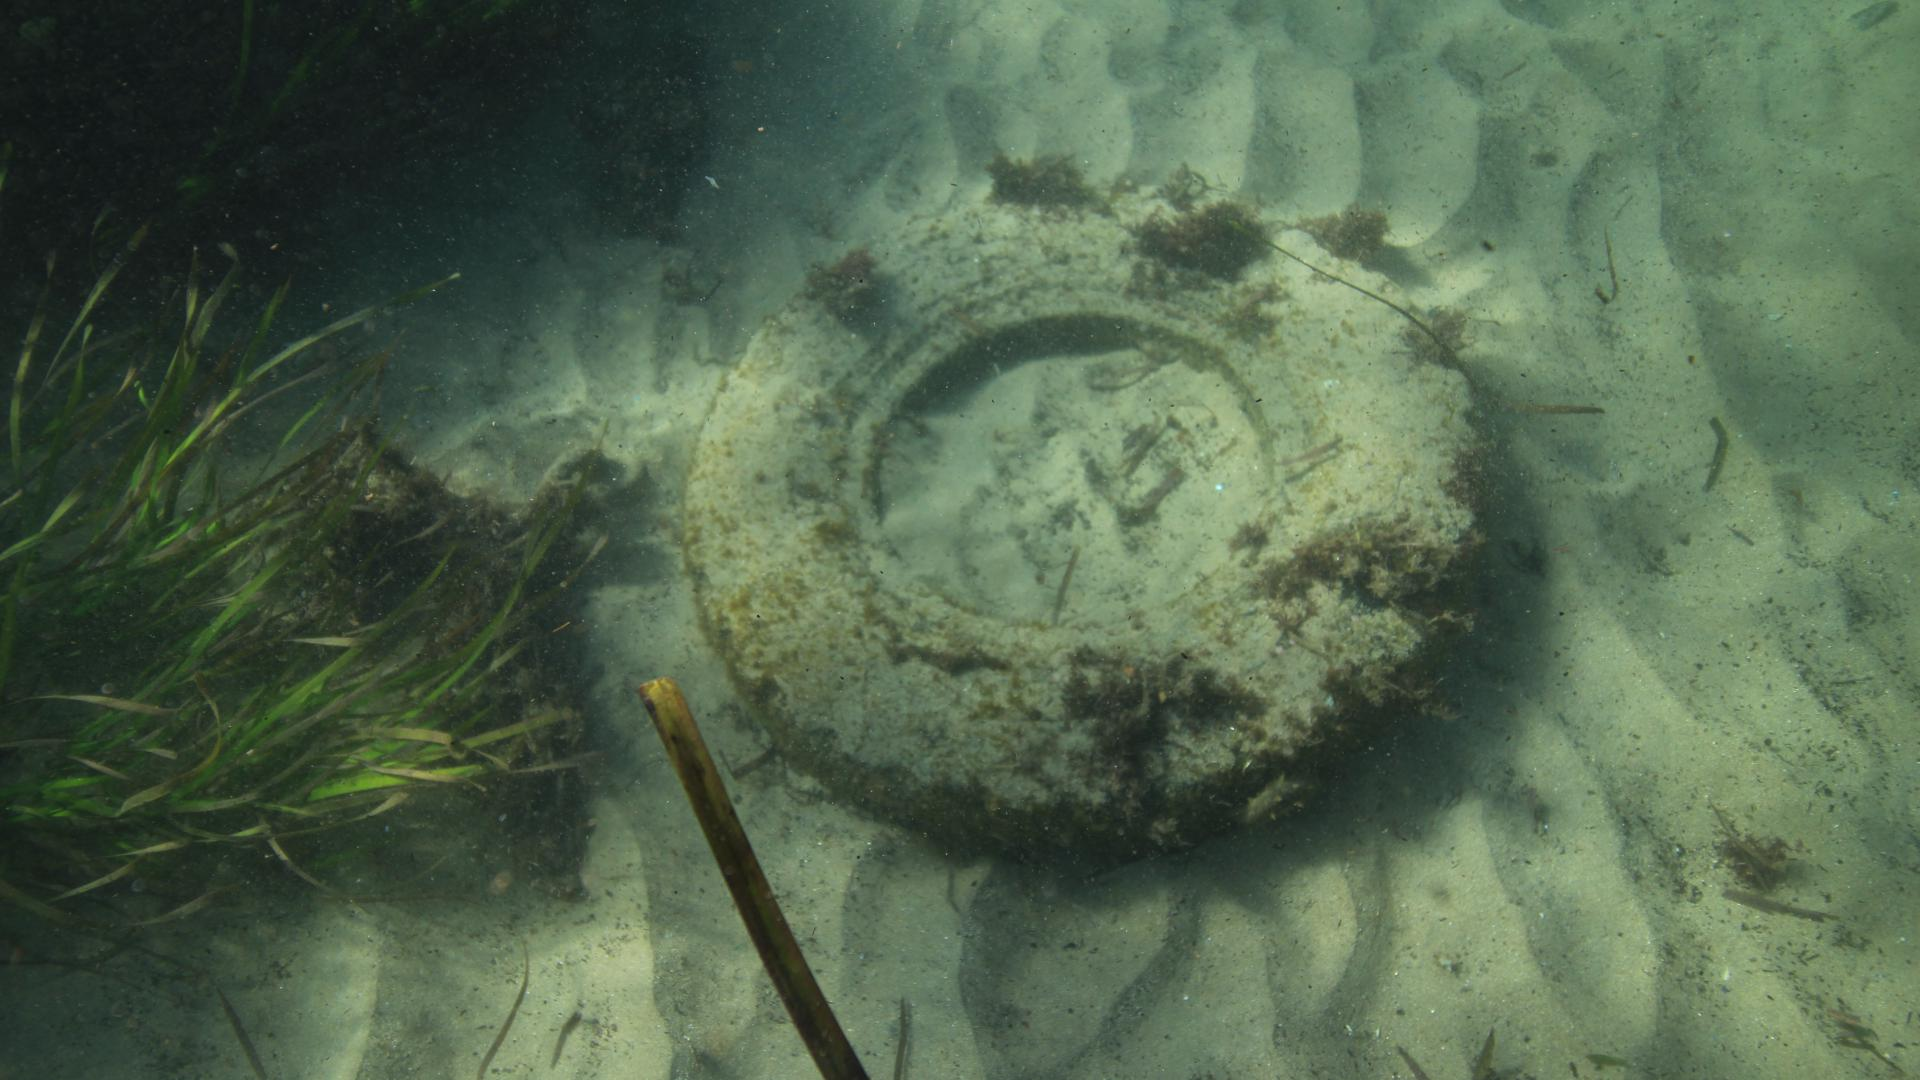tire: (680, 181, 1491, 866)
